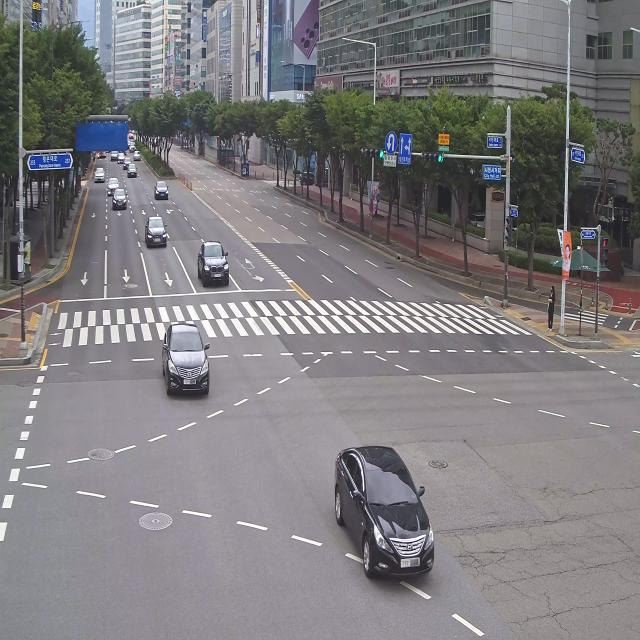Bus: (96, 149, 108, 160)
Car: (321, 423, 443, 606), (152, 296, 212, 424), (183, 221, 236, 303), (143, 198, 173, 266), (152, 171, 174, 209), (110, 183, 128, 219), (107, 175, 120, 196), (93, 165, 107, 184), (126, 161, 138, 179), (123, 155, 132, 169), (109, 150, 118, 163), (117, 151, 125, 165), (133, 150, 142, 162), (129, 141, 137, 152)
